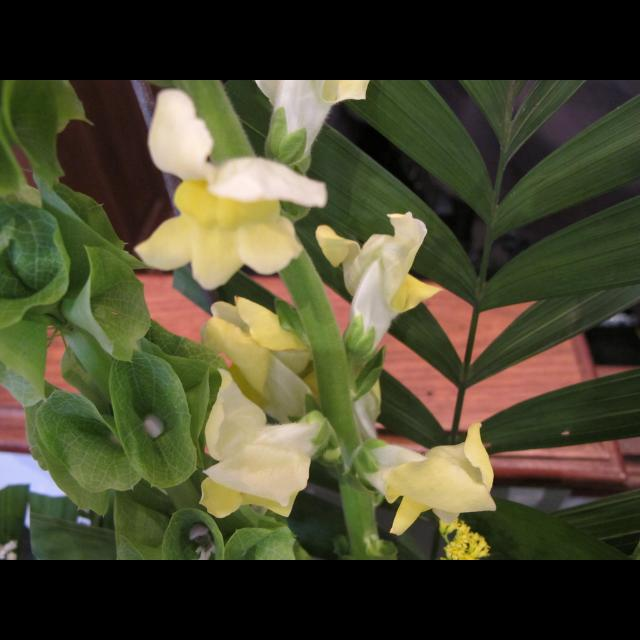Flower: (134, 87, 326, 290), (314, 214, 440, 366), (356, 420, 500, 538), (199, 296, 319, 426), (178, 382, 304, 502), (254, 80, 370, 168), (304, 359, 384, 445), (436, 519, 492, 559)
